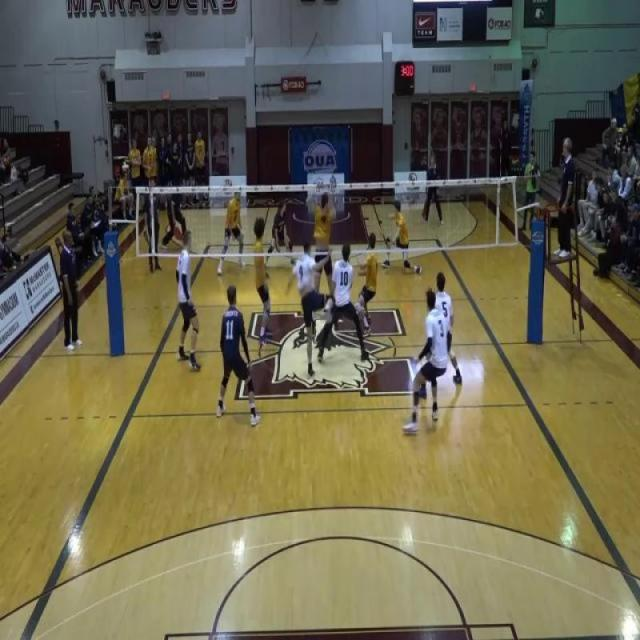volleyball: (378, 226, 386, 238)
